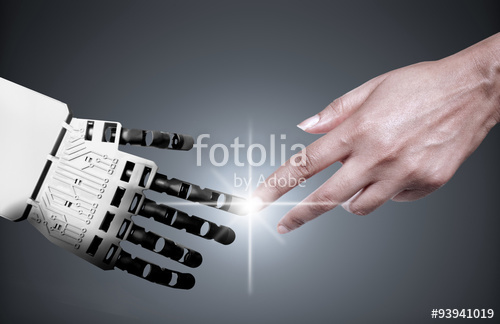finger: (252, 133, 343, 216), (274, 165, 360, 236), (338, 184, 393, 220)
